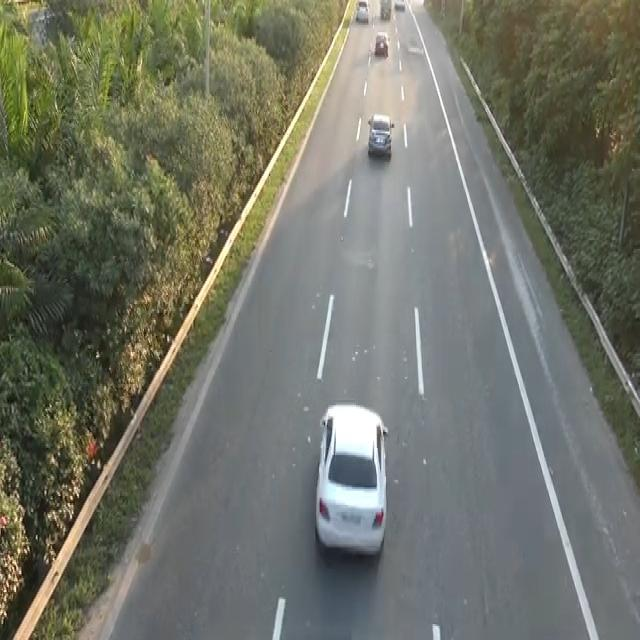bus: (312, 396, 390, 560), (366, 110, 394, 158)
